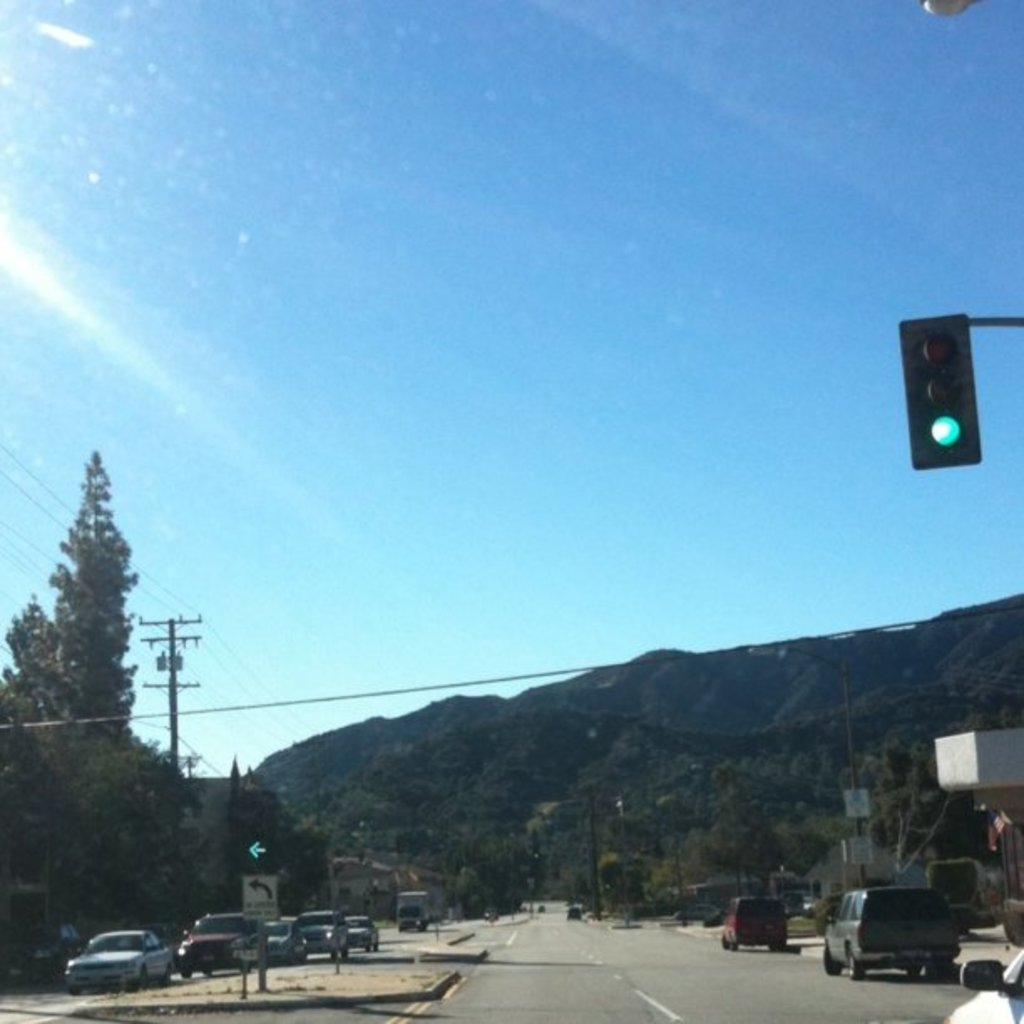green_light: (918, 326, 966, 462)
